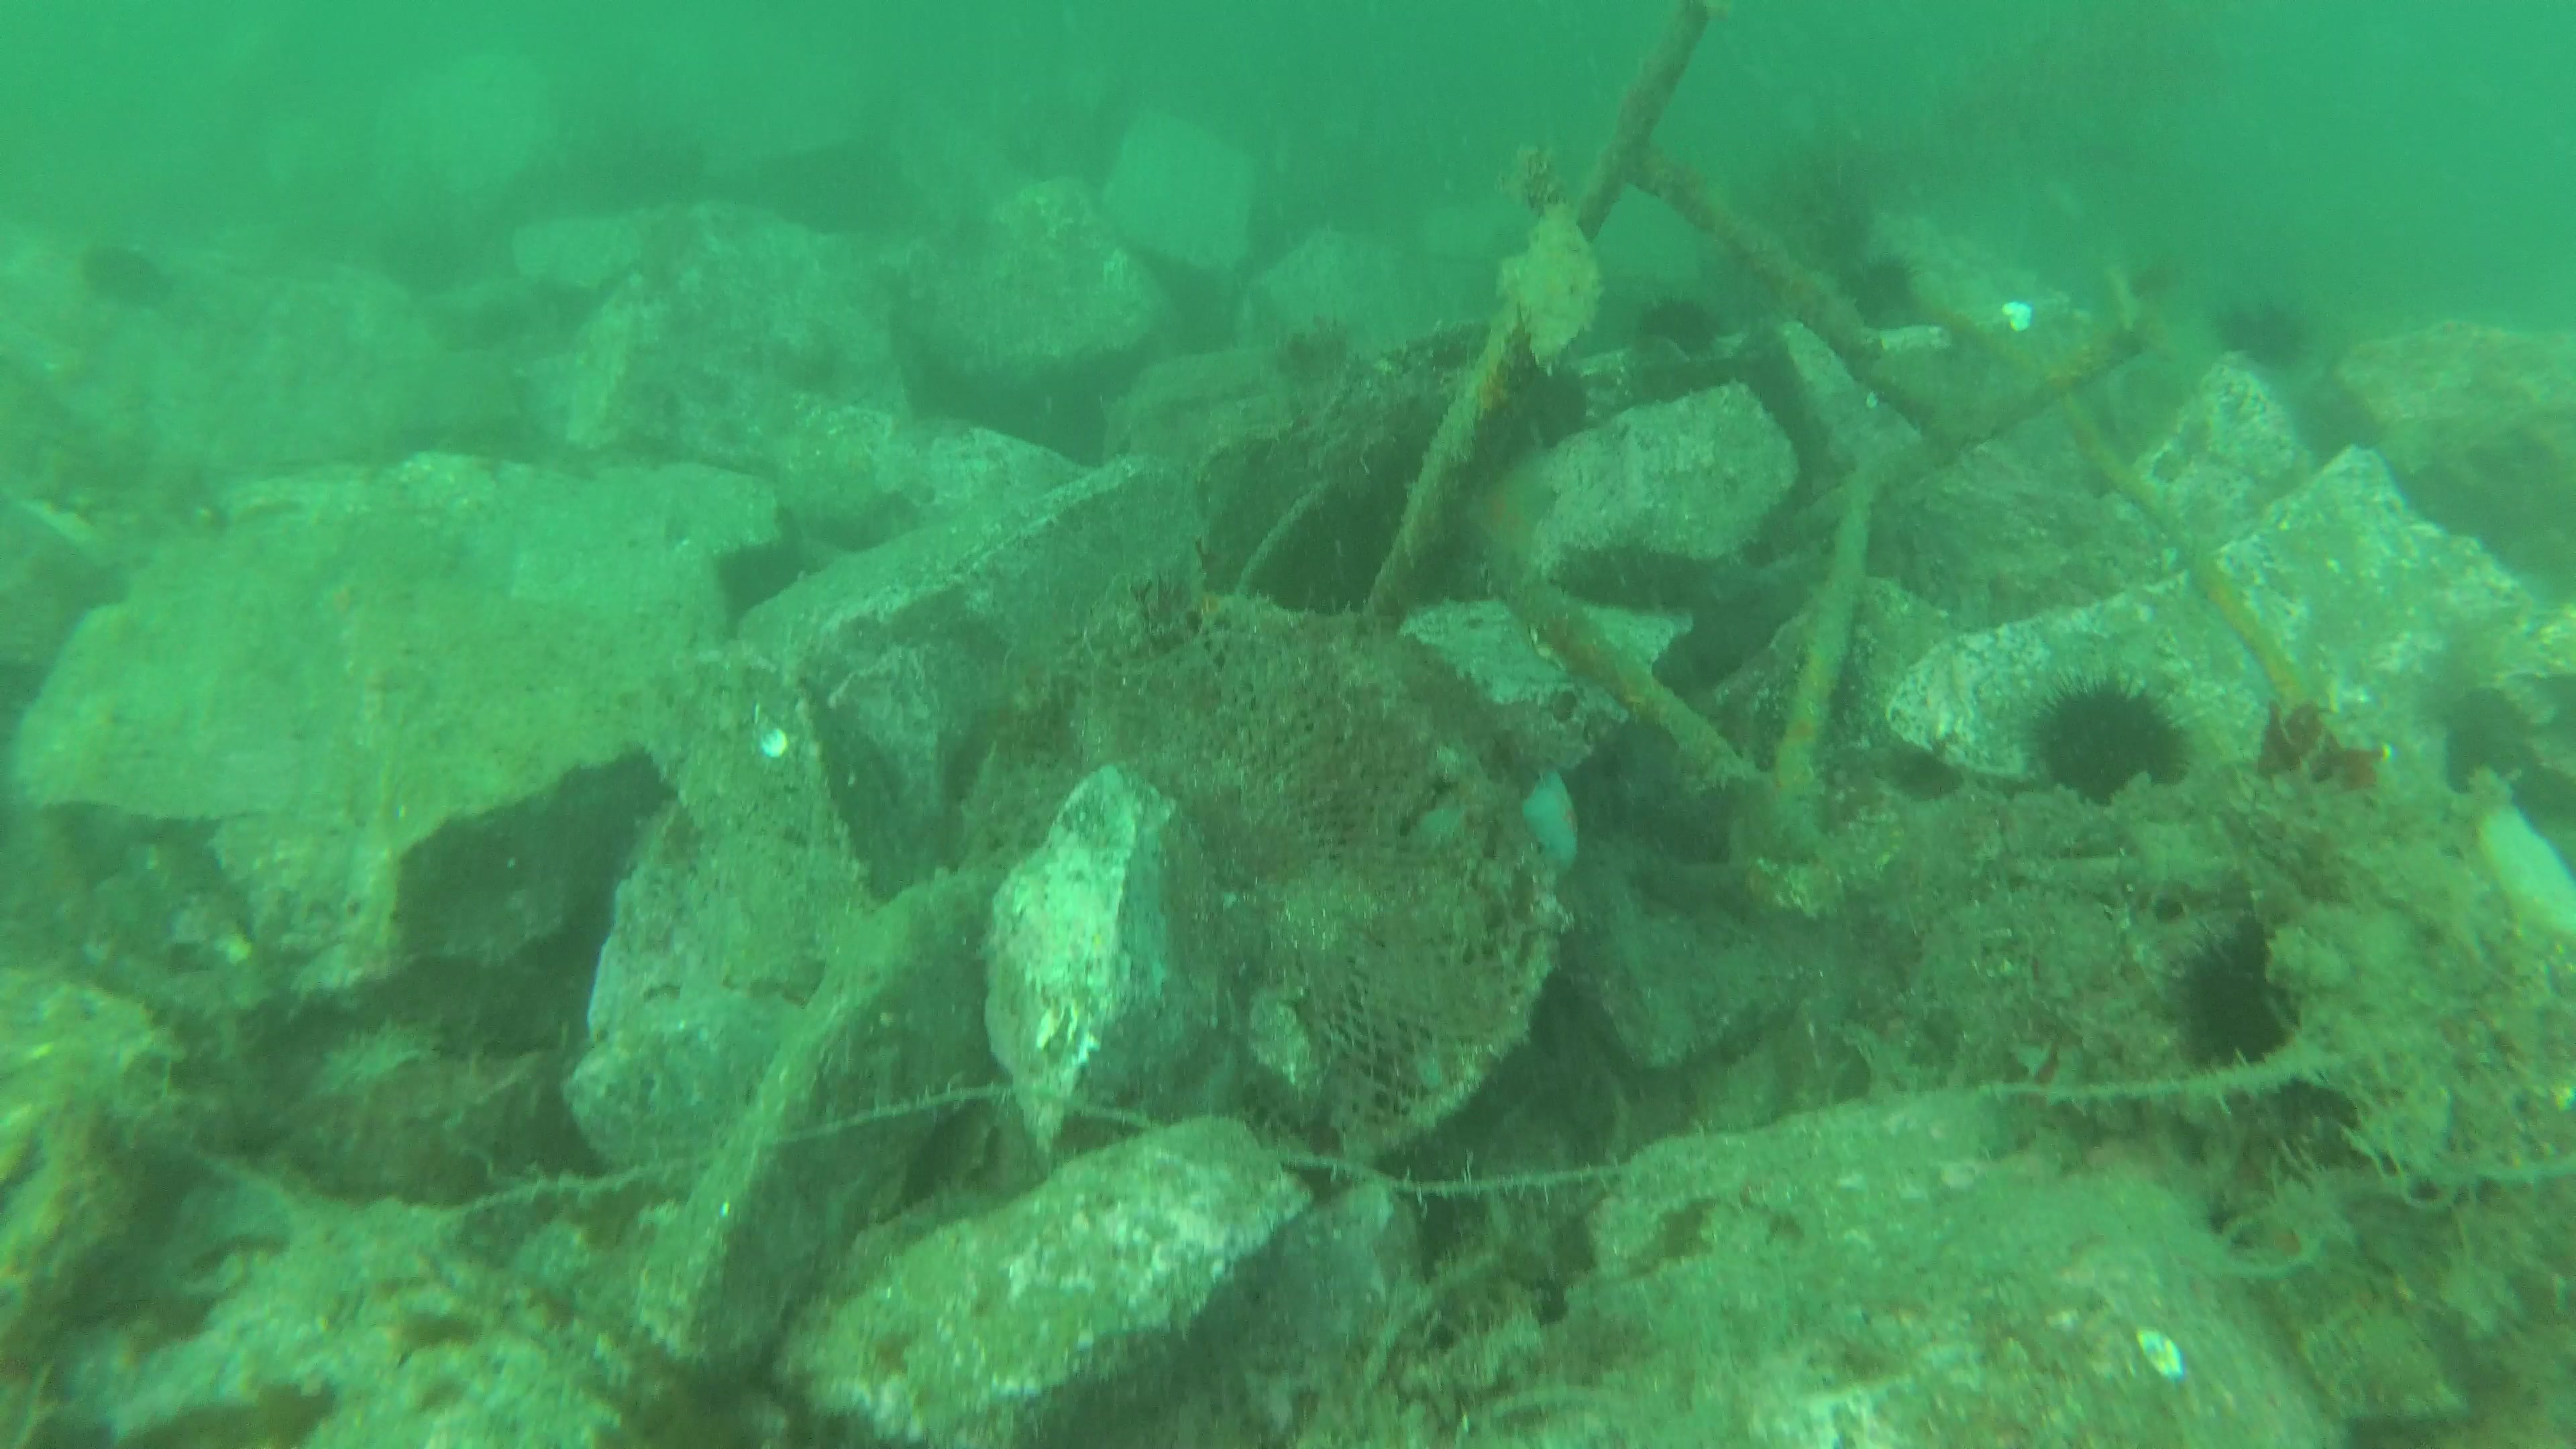echinus: (2158, 918, 2304, 1086), (2035, 672, 2206, 801), (2217, 295, 2327, 379), (1633, 285, 1737, 364)
